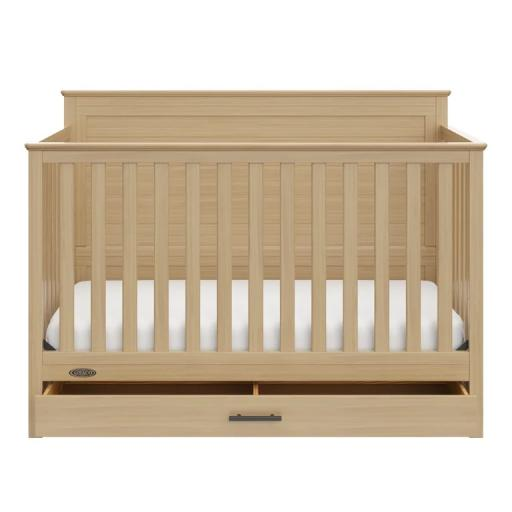crib: (27, 90, 484, 437)
